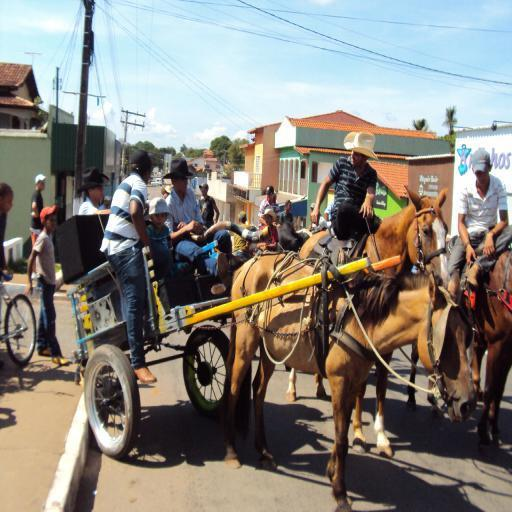horse: (218, 248, 478, 512), (282, 182, 450, 456), (441, 243, 512, 449)
